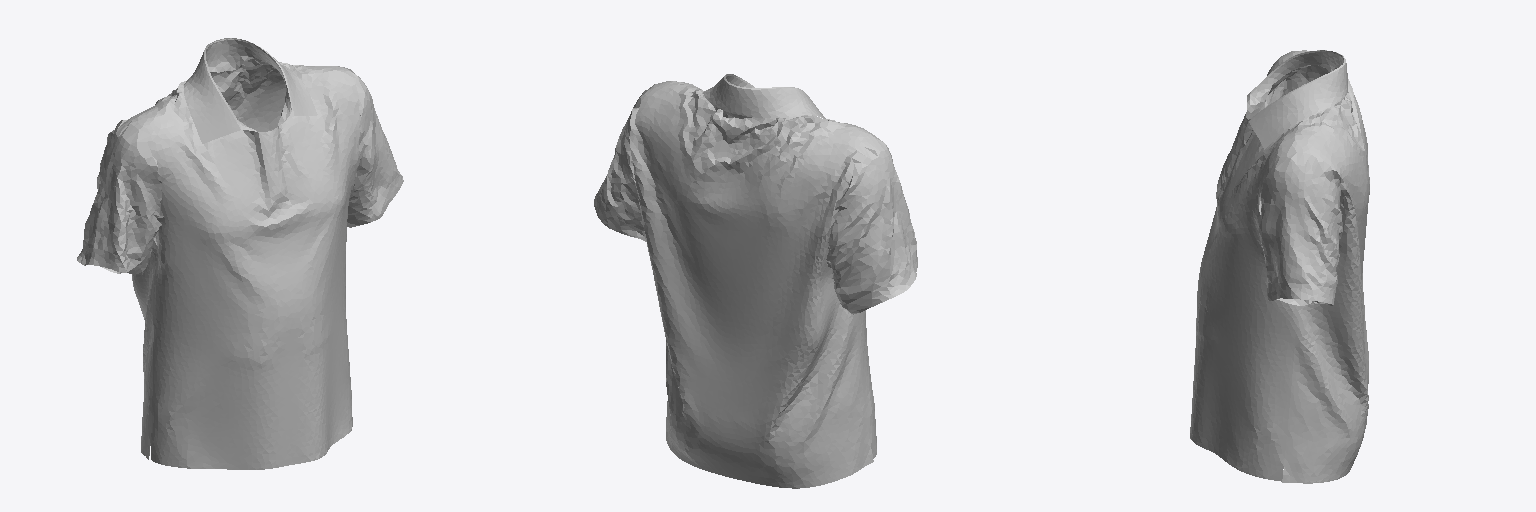
Rendered from small_average.obj.
3 views of the same model, side by side, from view 1: azimuth 30°, elevation 25°; view 2: azimuth 150°, elevation 25°; view 3: azimuth 270°, elevation 25° (orthographic).
Visible parts, largest first — view 1: polo3-30.001; view 2: polo3-30.001; view 3: polo3-30.001.
Boxes of the visible parts, x1,y1,x2,y2 form: polo3-30.001: [77, 38, 403, 469]; polo3-30.001: [594, 74, 917, 488]; polo3-30.001: [1190, 50, 1369, 483].
Size of the model in its own units: 0.582 by 0.6842 by 0.2882.